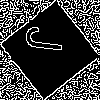J: (25, 25, 73, 55)
